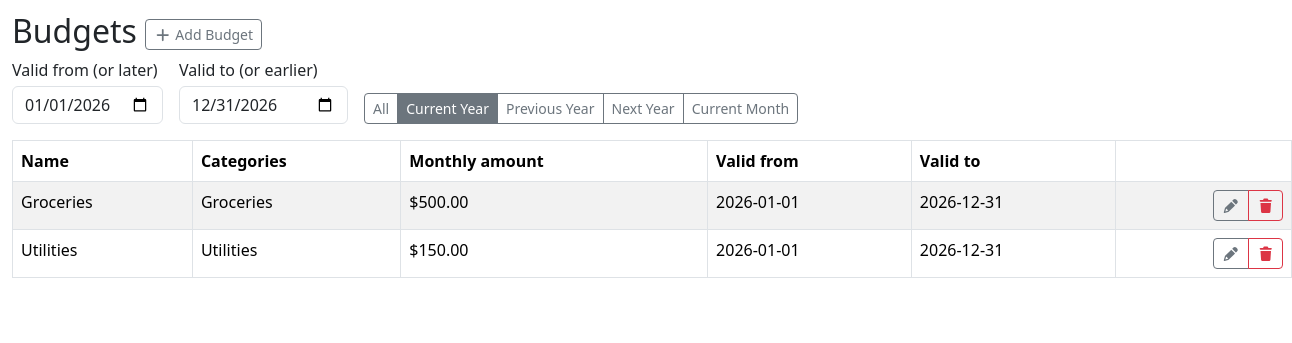
Test: Budgets › 'All' shortcut shows every budget
Expected: the button named "Edit budget Groceries" is shown, [1213,190,1248,221]
Click the button "All": click(381, 109) [364,93,398,124]
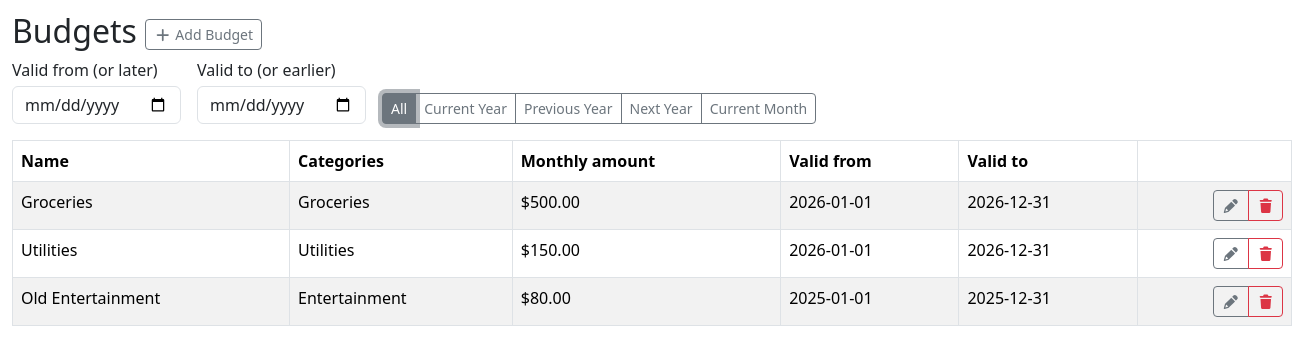
Expected: the button named "Edit budget Groceries" is shown, [1213,190,1248,221]
Expected: the button named "Edit budget Old Entertainment" is shown, [1213,286,1248,317]
